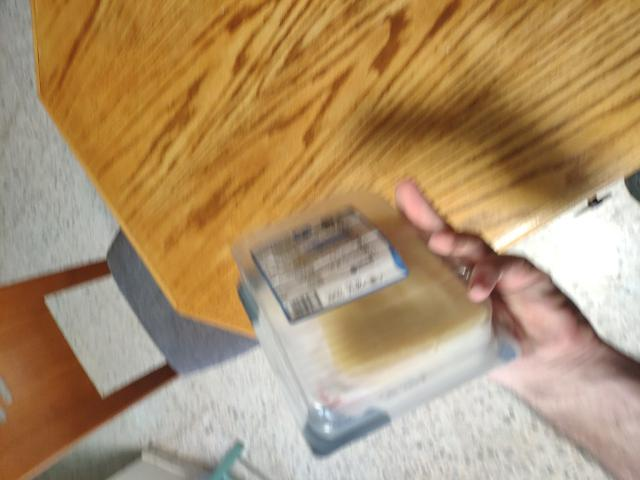cheese: (215, 194, 505, 423)
